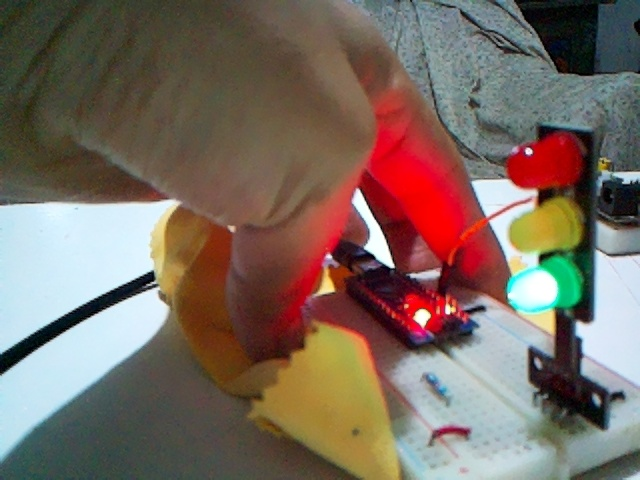traffic_light_green: (506, 126, 621, 427)
